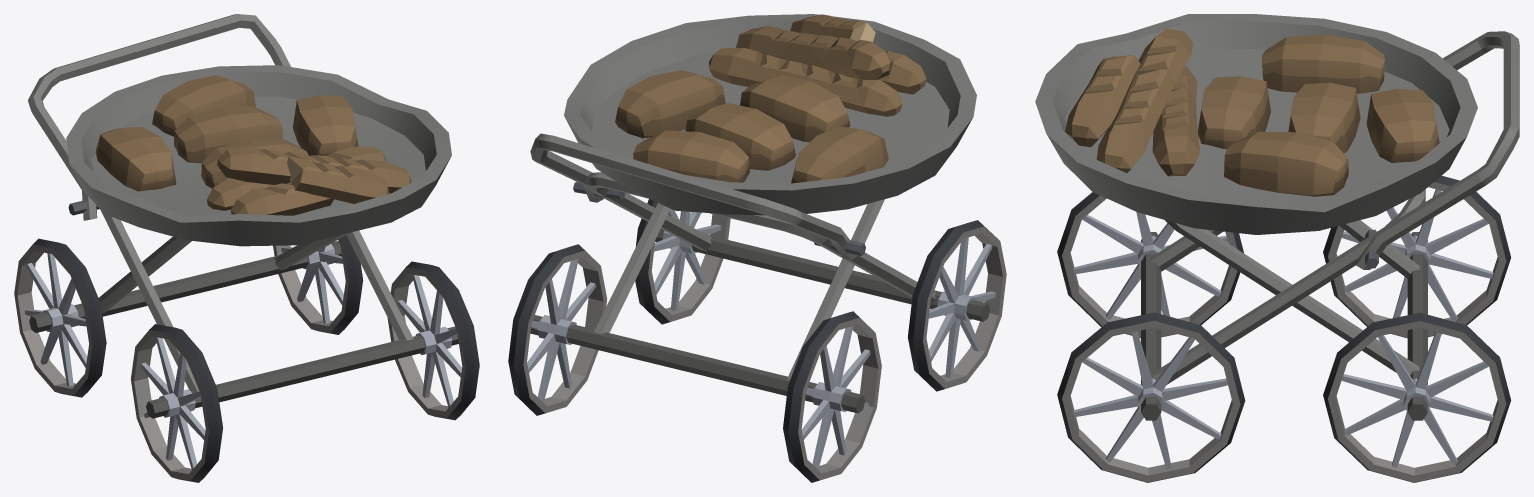
File: SM_Prop_Cart_Tray_01.fbx
3 renders of one model, left to right at view 1: azimuth 30°, elevation 25°; view 2: azimuth 150°, elevation 25°; view 3: azimuth 270°, elevation 25°, orthographic. The views are drawn at different scales.
Parts seen in each view (by area): view 1: SM_Prop_Cart_Tray_01, SM_Prop_Cart_Tray_Bread_01, SM_Prop_Cart_Tray_Wheel_rr, SM_Prop_Cart_Tray_Wheel_fr, SM_Prop_Cart_Tray_Wheel_fl, SM_Prop_Cart_Tray_Wheel_rl; view 2: SM_Prop_Cart_Tray_01, SM_Prop_Cart_Tray_Bread_01, SM_Prop_Cart_Tray_Wheel_fr, SM_Prop_Cart_Tray_Wheel_rr, SM_Prop_Cart_Tray_Wheel_rl, SM_Prop_Cart_Tray_Wheel_fl; view 3: SM_Prop_Cart_Tray_01, SM_Prop_Cart_Tray_Bread_01, SM_Prop_Cart_Tray_Wheel_rl, SM_Prop_Cart_Tray_Wheel_fl, SM_Prop_Cart_Tray_Wheel_rr, SM_Prop_Cart_Tray_Wheel_fr.
Boxes of the visible parts, box(x1,y1,x2,y2) form: SM_Prop_Cart_Tray_01: box(28, 14, 458, 418); SM_Prop_Cart_Tray_Bread_01: box(95, 75, 411, 215); SM_Prop_Cart_Tray_Wheel_rr: box(14, 238, 106, 397); SM_Prop_Cart_Tray_Wheel_fr: box(131, 324, 222, 482); SM_Prop_Cart_Tray_Wheel_fl: box(387, 261, 479, 420); SM_Prop_Cart_Tray_Wheel_rl: box(273, 235, 363, 334); SM_Prop_Cart_Tray_01: box(530, 14, 990, 413); SM_Prop_Cart_Tray_Bread_01: box(615, 14, 926, 183); SM_Prop_Cart_Tray_Wheel_fr: box(907, 220, 1006, 391); SM_Prop_Cart_Tray_Wheel_rr: box(783, 311, 881, 482); SM_Prop_Cart_Tray_Wheel_rl: box(508, 244, 606, 415); SM_Prop_Cart_Tray_Wheel_fl: box(635, 199, 730, 324); SM_Prop_Cart_Tray_01: box(1035, 14, 1519, 420); SM_Prop_Cart_Tray_Bread_01: box(1065, 28, 1439, 196); SM_Prop_Cart_Tray_Wheel_rl: box(1323, 312, 1511, 482); SM_Prop_Cart_Tray_Wheel_fl: box(1057, 312, 1245, 482); SM_Prop_Cart_Tray_Wheel_rr: box(1323, 175, 1510, 338); SM_Prop_Cart_Tray_Wheel_fr: box(1057, 192, 1243, 338).
Size of the model in its own units: 138 by 120 by 152.
